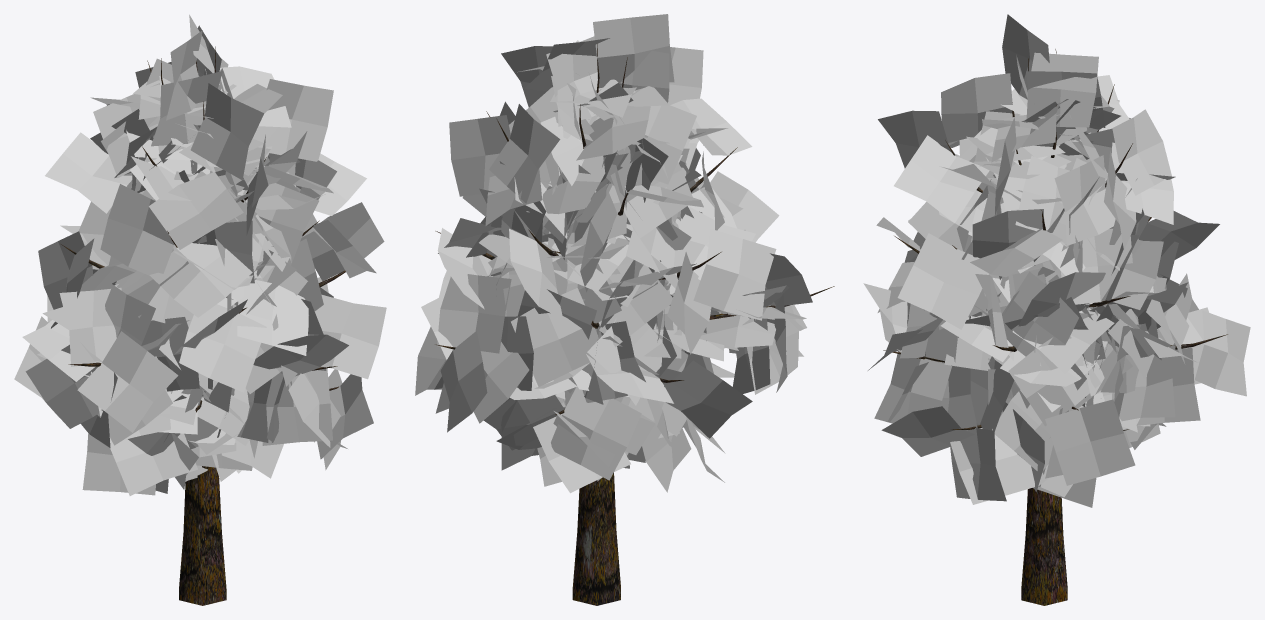
File: Puun3.fbx
The picture shows the model from 3 angles, left to right: view 1: azimuth 30°, elevation 25°; view 2: azimuth 150°, elevation 25°; view 3: azimuth 270°, elevation 25°; orthographic projection. The views are drawn at different scales.
Parts seen in each view (by area): view 1: Puun3; view 2: Puun3; view 3: Puun3.
Boxes of the visible parts, left/top/right/bottom form: Puun3: left=14, top=14, right=386, bottom=605; Puun3: left=415, top=14, right=834, bottom=605; Puun3: left=863, top=14, right=1250, bottom=605.
Size of the model in its own units: 4.83 by 7.58 by 4.79.
